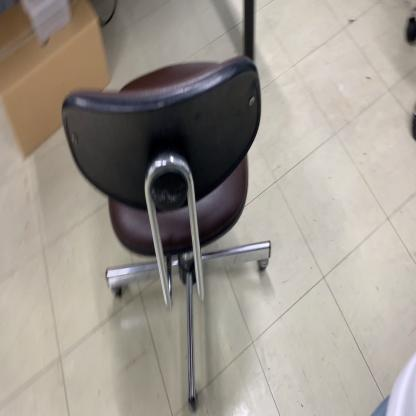chair: (60, 54, 273, 413)
